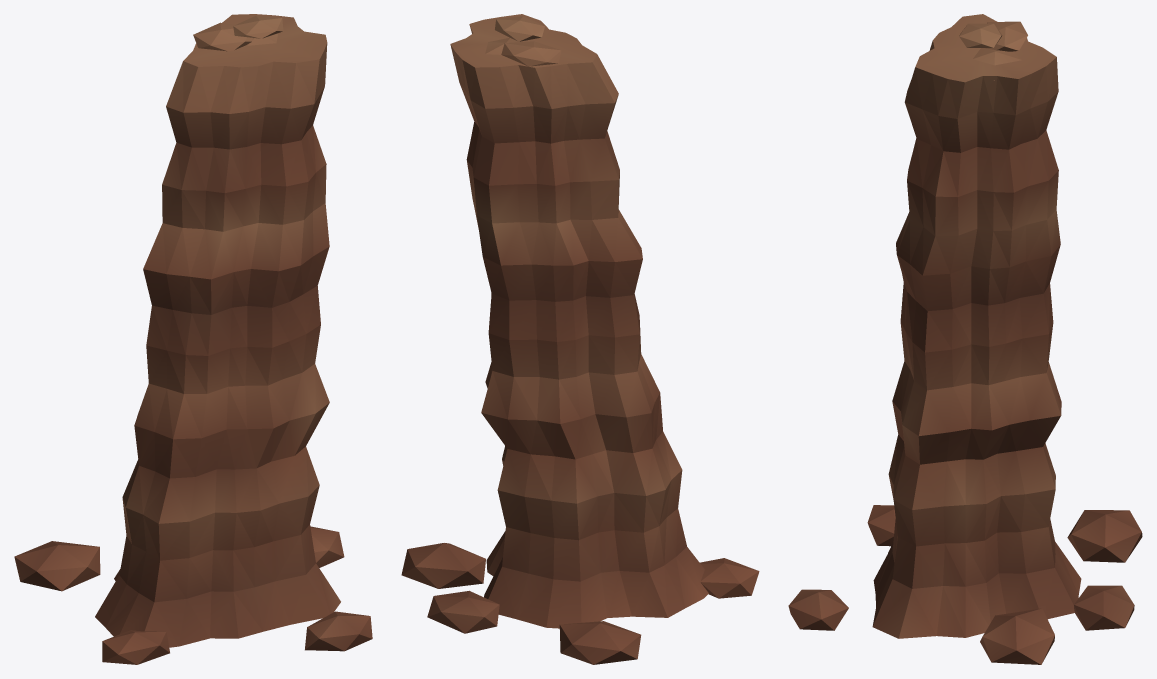
The model's file is rock_spire_b.glb.
3 views of the same model, side by side, from view 1: azimuth 30°, elevation 25°; view 2: azimuth 150°, elevation 25°; view 3: azimuth 270°, elevation 25° (orthographic). The views are drawn at different scales.
Parts seen in each view (by area): view 1: rock_spire_b; view 2: rock_spire_b; view 3: rock_spire_b.
Boxes of the visible parts, <box> form: rock_spire_b: <box>14,14,372,664</box>; rock_spire_b: <box>401,14,759,664</box>; rock_spire_b: <box>788,14,1142,664</box>.
Bounding box in the file's own units: 4.89 × 9.05 × 4.89.
